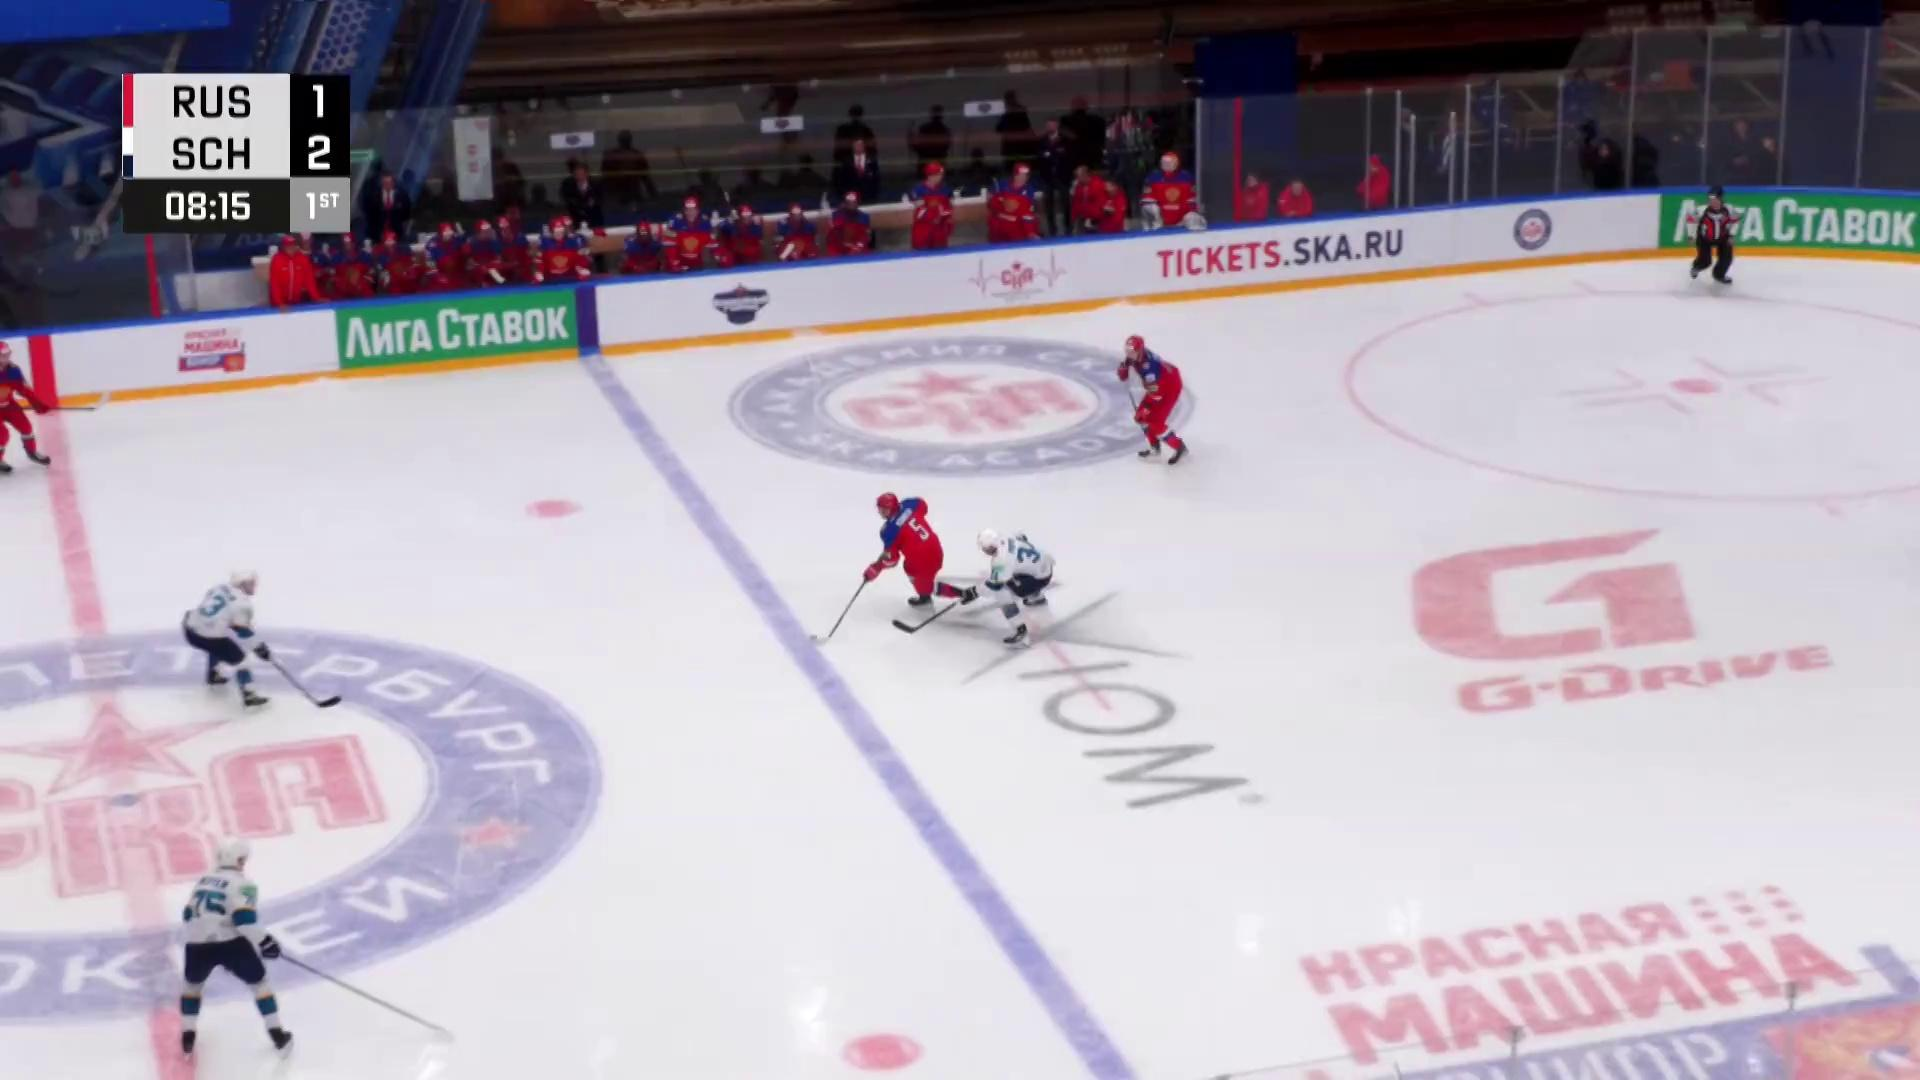ball: (808, 636, 818, 640)
